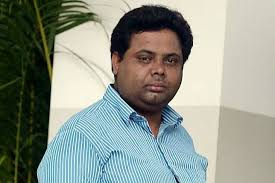Indian_Male: (117, 15, 190, 116)
